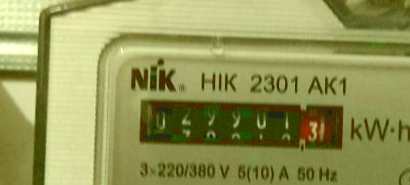0: (252, 106, 268, 131), (151, 108, 166, 131)
1: (279, 106, 292, 131)
2: (177, 104, 193, 127)
3: (303, 119, 319, 143)
9: (228, 107, 240, 130), (203, 105, 216, 126)
screen: (129, 91, 352, 160)
